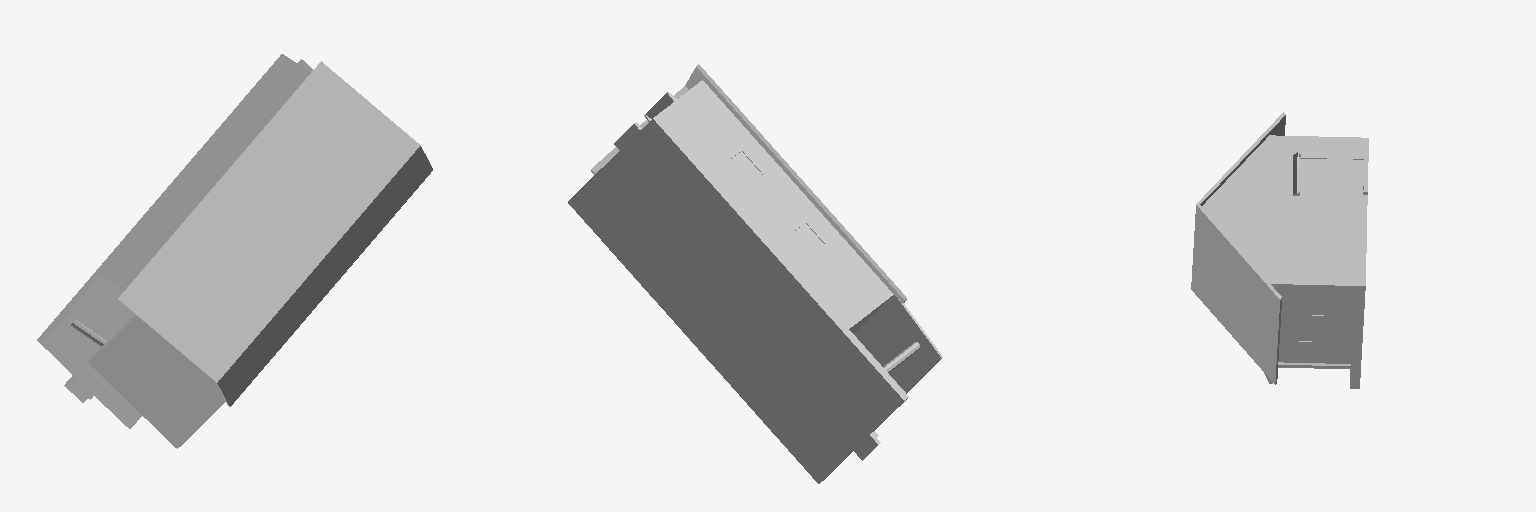
File: house.obj
3 views of the same model, side by side, from view 1: azimuth 30°, elevation 25°; view 2: azimuth 150°, elevation 25°; view 3: azimuth 270°, elevation 25° (orthographic).
Visible parts, largest first — view 1: house; view 2: house; view 3: house.
Boxes of the visible parts, box(x1,y1,x2,y2) form: house: box(37, 54, 432, 448); house: box(568, 64, 942, 483); house: box(1191, 112, 1368, 388).
Bounding box in the file's own units: 6.8 × 6.47 × 2.95.